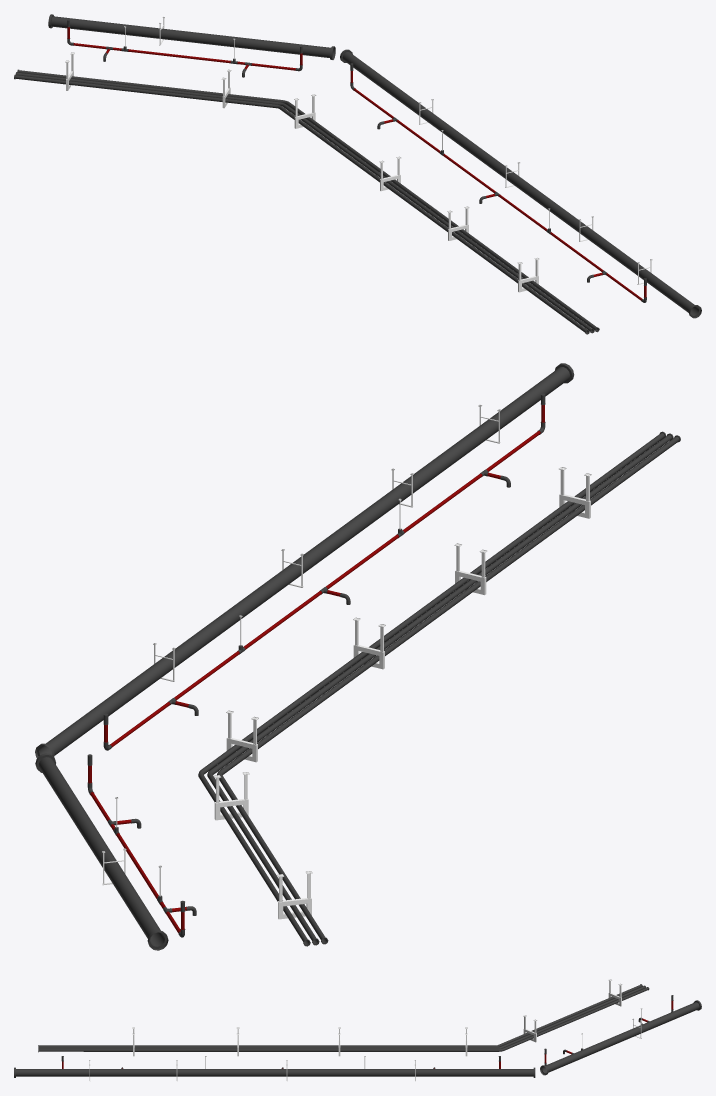
File: SM_H_Building_Tide_Waterway_06b_ATLAS.fbx
3 renders of one model, top to bottom at view 1: azimuth 30°, elevation 25°; view 2: azimuth 150°, elevation 25°; view 3: azimuth 270°, elevation 25°, orthographic. The views are drawn at different scales.
Visible parts, largest first — view 1: SM_H_Building_Tide_Waterway_06b_ATLAS; view 2: SM_H_Building_Tide_Waterway_06b_ATLAS; view 3: SM_H_Building_Tide_Waterway_06b_ATLAS.
Boxes of the visible parts, left/top/right/bottom form: SM_H_Building_Tide_Waterway_06b_ATLAS: left=14, top=14, right=701, bottom=334; SM_H_Building_Tide_Waterway_06b_ATLAS: left=35, top=363, right=680, bottom=950; SM_H_Building_Tide_Waterway_06b_ATLAS: left=14, top=979, right=701, bottom=1081.
Bounding box in the file's own units: 756 × 2252 × 79.63.
